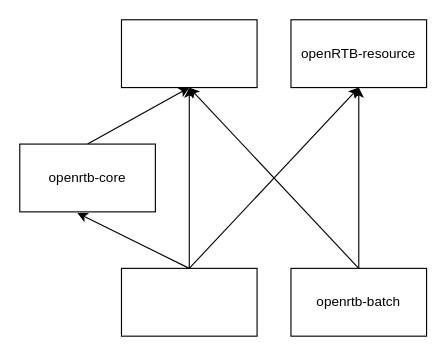
Some shapes in this 446 by 356 pixel diagram are drawn without their labels. Each missing label, with the box of its shape:
openrtb-consumer: (120, 267, 257, 336)
openRTB-data: (120, 19, 257, 88)
